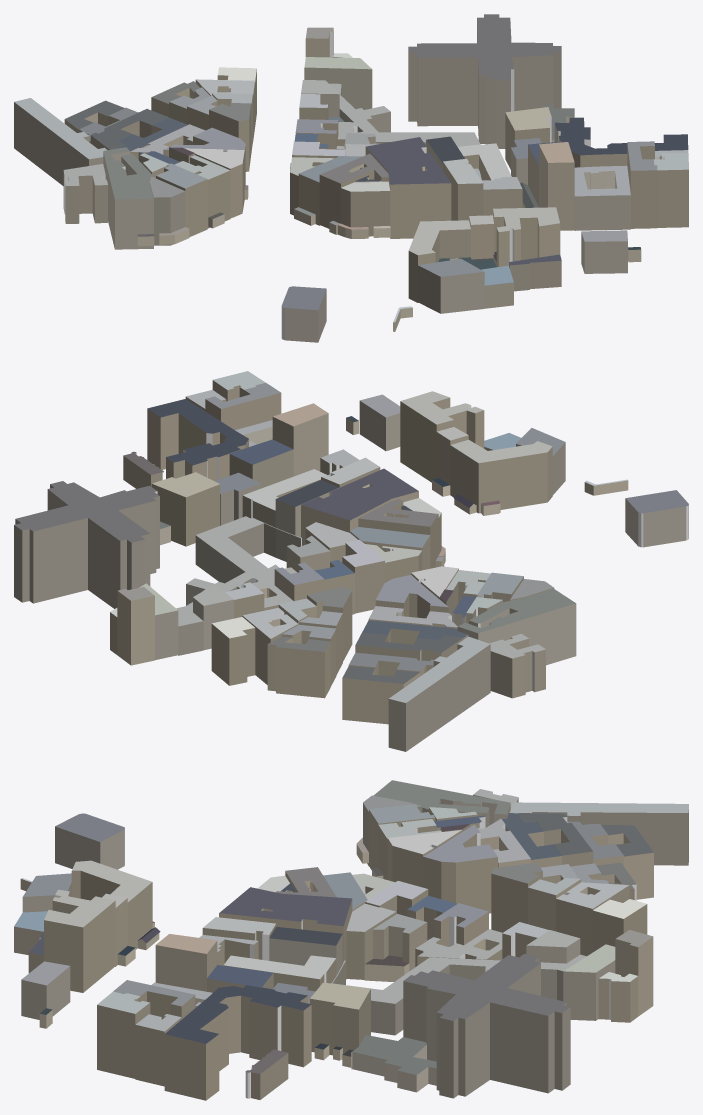
3 views of the same model, one above another, from view 1: azimuth 30°, elevation 25°; view 2: azimuth 150°, elevation 25°; view 3: azimuth 270°, elevation 25° (orthographic). The views are drawn at different scales.
Visible parts, largest first — view 1: tuile; view 2: tuile; view 3: tuile.
Part boxes in pixels (x1=…): tuile: x1=14, y1=14, x2=688, y2=342; tuile: x1=14, y1=371, x2=688, y2=751; tuile: x1=14, y1=780, x2=688, y2=1100.
Size of the model in its own units: 270 by 41.04 by 279.
